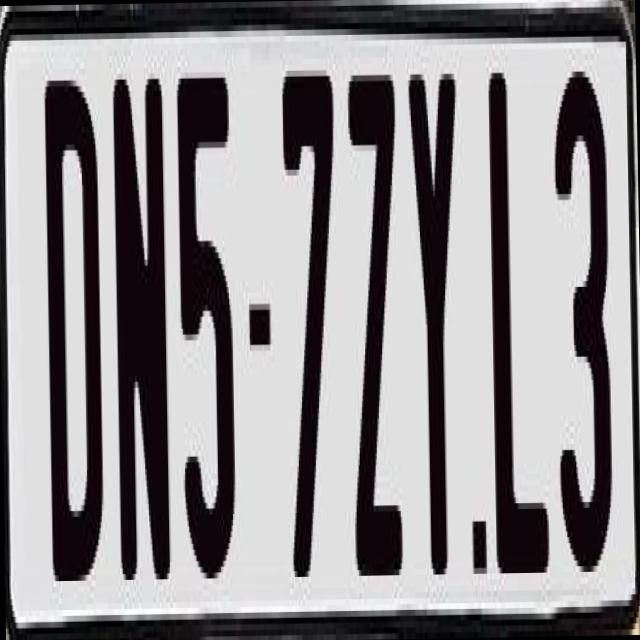3: (553, 71, 613, 584)
5: (172, 66, 238, 590)
7: (278, 70, 342, 570)
D: (44, 74, 112, 580)
L: (486, 60, 550, 561)
N: (110, 61, 172, 562)
Y: (404, 62, 464, 586)
Z: (347, 69, 408, 582)
